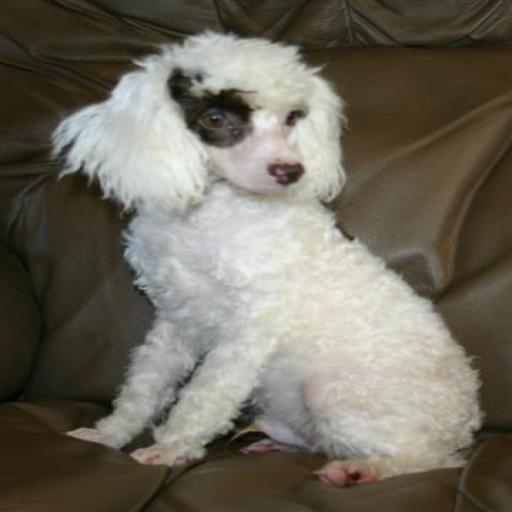dog_face: (58, 34, 352, 208)
